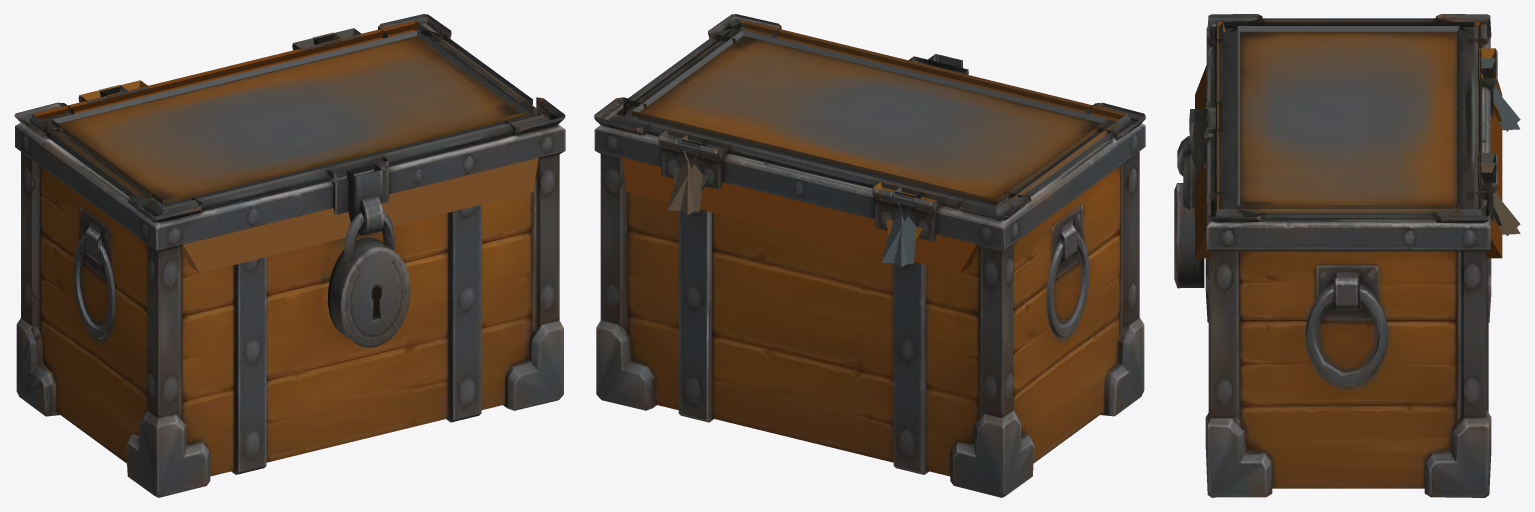
File: SM_Prop_ChestCommonBody.glb
3 renders of one model, left to right at view 1: azimuth 30°, elevation 25°; view 2: azimuth 150°, elevation 25°; view 3: azimuth 270°, elevation 25°, orthographic.
Visible parts, largest first — view 1: SM_Prop_ChestCommonBody_LOD0; view 2: SM_Prop_ChestCommonBody_LOD0; view 3: SM_Prop_ChestCommonBody_LOD0.
Boxes of the visible parts, x1,y1,x2,y2 form: SM_Prop_ChestCommonBody_LOD0: [14, 14, 565, 497]; SM_Prop_ChestCommonBody_LOD0: [594, 14, 1145, 497]; SM_Prop_ChestCommonBody_LOD0: [1174, 14, 1520, 497].
Bounding box in the file's own units: 0.8525 × 0.558 × 0.6145.
1 material, 1 textured.
